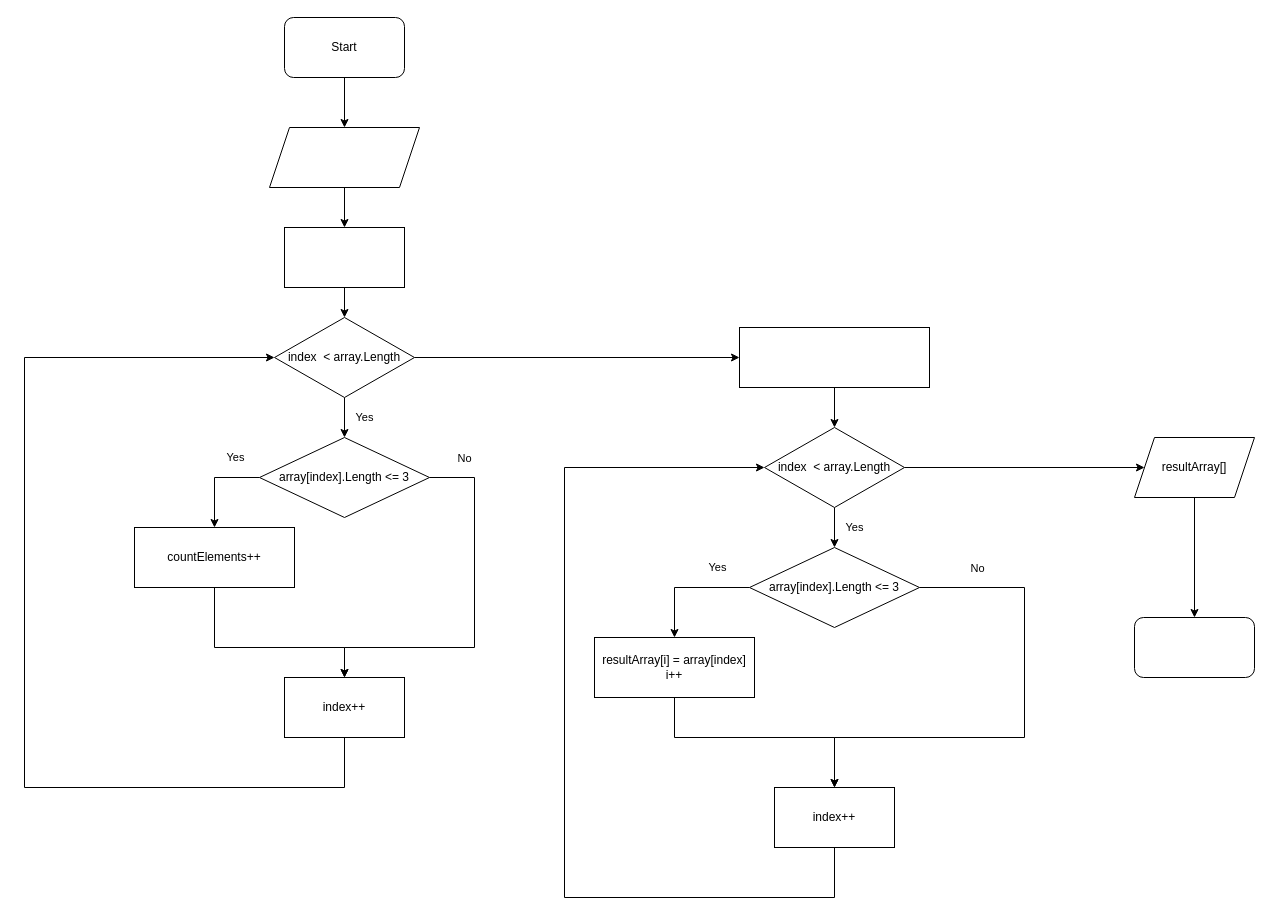
The diagram is 1272 pixels wide and 923 high, and some of its shapes have lost their labels. Each missing label, with the centre of its shape:
"END" belongs at pixel 1194 647.
"i, array[i]," belongs at pixel 344 157.
"index = 0, countElements = 0" belongs at pixel 344 257.
"resultArray[countElements], index = 0, i = 0" belongs at pixel 834 357.
